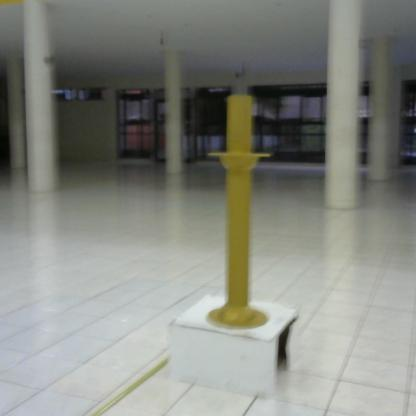pole: (204, 90, 273, 334)
